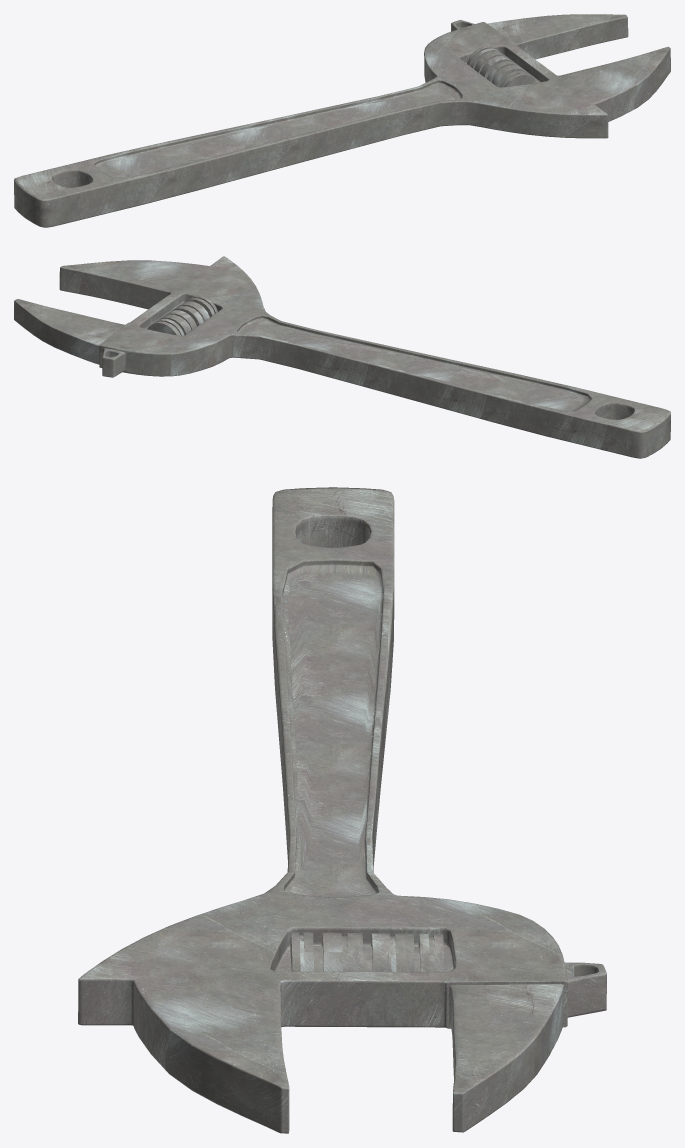
The model's file is FbxWrench.fbx.
3 views of the same model, one above another, from view 1: azimuth 30°, elevation 25°; view 2: azimuth 150°, elevation 25°; view 3: azimuth 270°, elevation 25° (orthographic). The views are drawn at different scales.
Parts seen in each view (by area): view 1: Wrench, clau_inglesa:pCylinder1; view 2: Wrench, clau_inglesa:pCylinder1; view 3: Wrench, clau_inglesa:pCylinder1.
Boxes of the visible parts, <box> form: Wrench: <box>14,14,670,227</box>; clau_inglesa:pCylinder1: <box>467,45,536,87</box>; Wrench: <box>14,256,670,458</box>; clau_inglesa:pCylinder1: <box>147,295,217,335</box>; Wrench: <box>78,487,606,1133</box>; clau_inglesa:pCylinder1: <box>290,932,444,972</box>.
Bounding box in the file's own units: 3.61 × 0.1874 × 1.34.
1 material, 1 textured.
